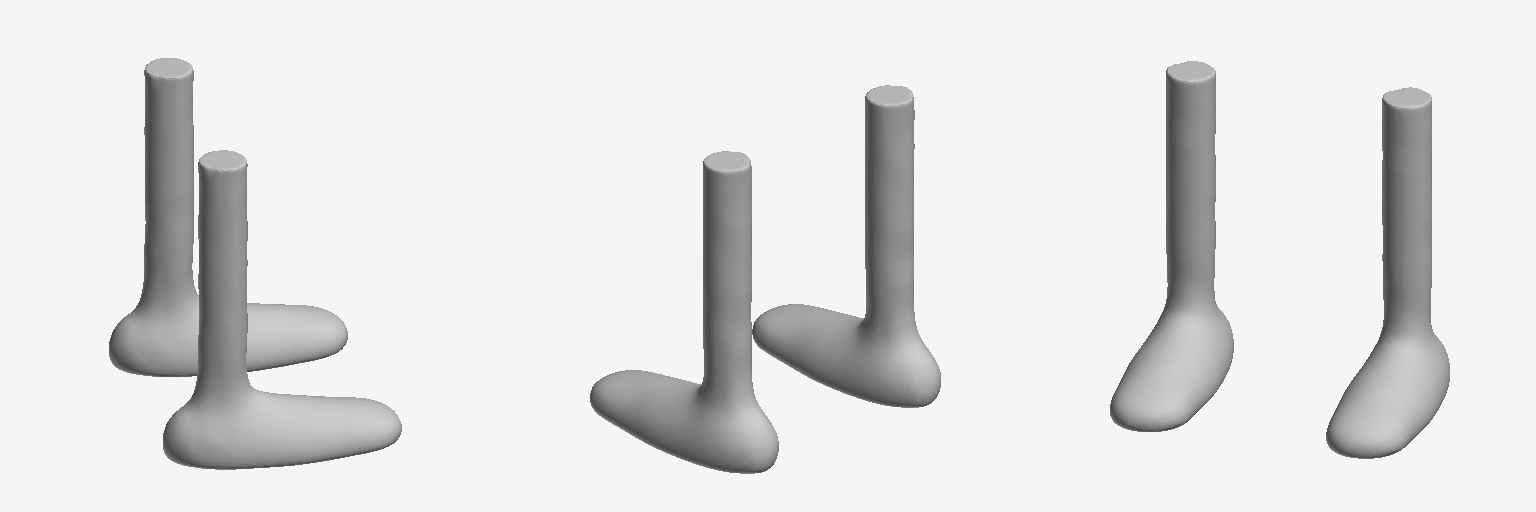
Rendered from CupsyLegsZOBJ.obj.
The picture shows the model from 3 angles: view 1: azimuth 30°, elevation 25°; view 2: azimuth 150°, elevation 25°; view 3: azimuth 270°, elevation 25°; orthographic projection.
Visible parts, largest first — view 1: Group53585, Group56744; view 2: Group53585, Group56744; view 3: Group53585, Group56744.
Part boxes in pixels (x1,y1,x2,y2): Group53585: (133,58,256,421); Group56744: (109,295,401,469); Group53585: (695,85,922,421); Group56744: (590,304,940,473); Group53585: (1161,61,1437,354); Group56744: (1110,310,1449,458).
Size of the model in its own units: 3.12 by 3.41 by 3.56.